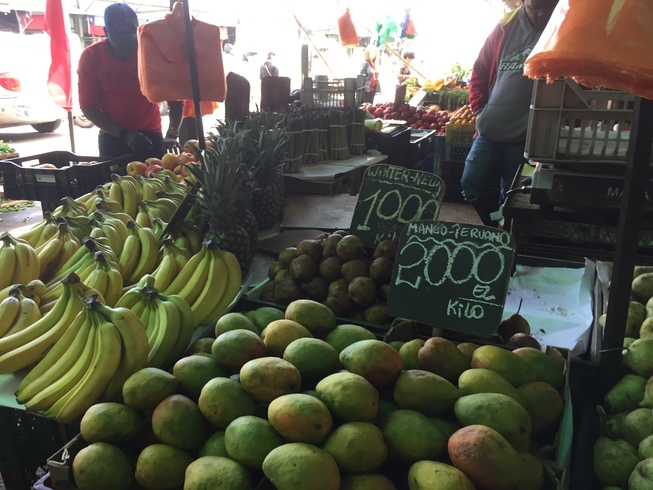precio: (390, 217, 516, 338), (355, 160, 440, 244)
